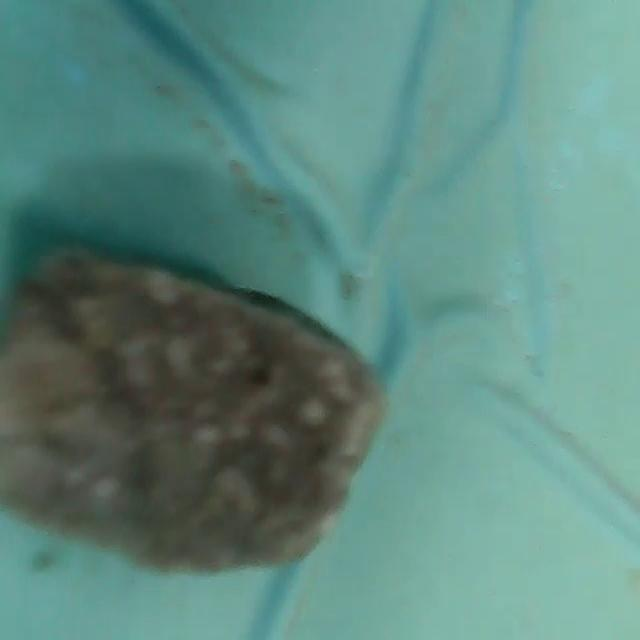rock: (0, 240, 394, 592)
